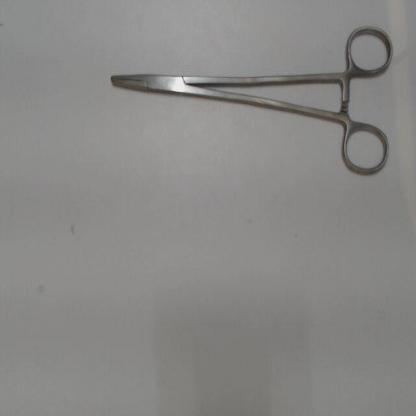8 Mayo Needle Holder: (97, 16, 398, 184)
